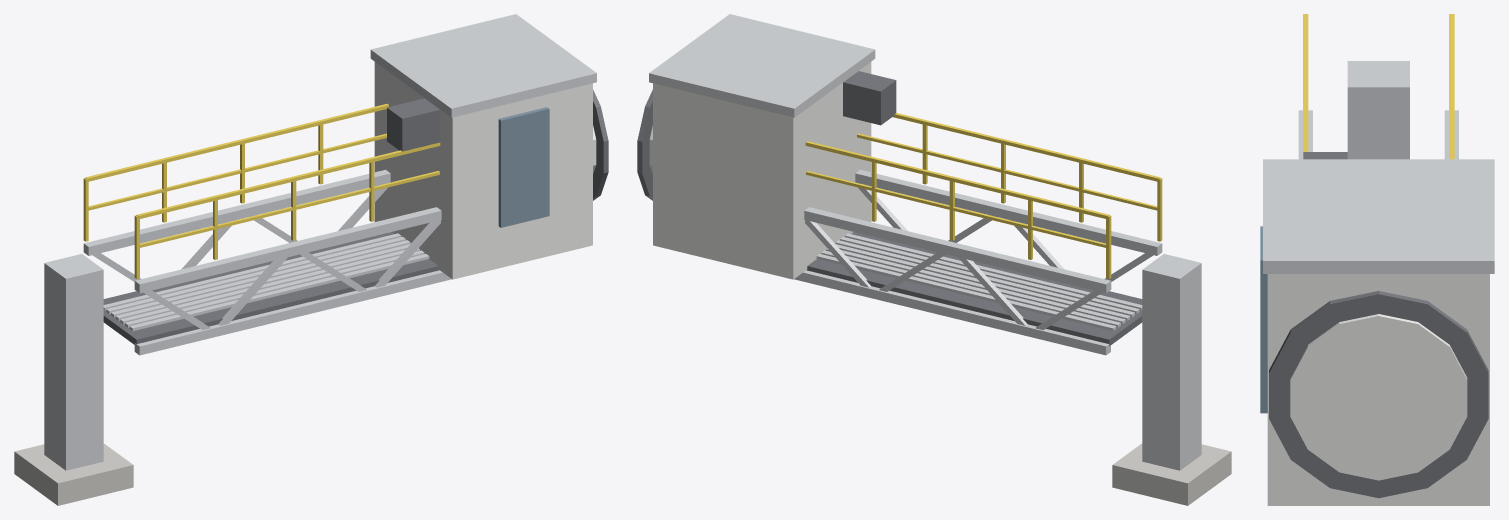
The model's file is crewarm.glb.
3 renders of one model, left to right at view 1: azimuth 30°, elevation 25°; view 2: azimuth 150°, elevation 25°; view 3: azimuth 270°, elevation 25°, orthographic. The views are drawn at different scales.
Visible parts, largest first — view 1: access-arm/steel, access-arm/white, crew-access-arm, access-arm/yellow, access-arm/charcoal, access-arm/glass; view 2: access-arm/steel, access-arm/white, crew-access-arm, access-arm/charcoal, access-arm/yellow; view 3: access-arm/white, access-arm/steel, access-arm/charcoal, crew-access-arm, access-arm/yellow, access-arm/glass.
Boxes of the visible parts, <box> form: access-arm/steel: <box>83,14,596,355</box>; access-arm/white: <box>374,62,596,279</box>; crew-access-arm: <box>14,254,133,505</box>; access-arm/yellow: <box>83,104,440,278</box>; access-arm/charcoal: <box>103,89,608,344</box>; access-arm/glass: <box>498,107,549,227</box>; access-arm/steel: <box>649,14,1162,355</box>; access-arm/white: <box>649,62,871,279</box>; crew-access-arm: <box>1112,254,1231,505</box>; access-arm/charcoal: <box>637,71,1142,345</box>; access-arm/yellow: <box>805,113,1162,278</box>; access-arm/white: <box>1267,274,1489,505</box>; access-arm/steel: <box>1263,110,1494,273</box>; access-arm/charcoal: <box>1269,152,1488,498</box>; crew-access-arm: <box>1347,61,1409,159</box>; access-arm/yellow: <box>1303,14,1454,159</box>; access-arm/glass: <box>1260,226,1267,413</box>.
Bounding box in the file's own units: 9.96 × 5.66 × 2.63.
